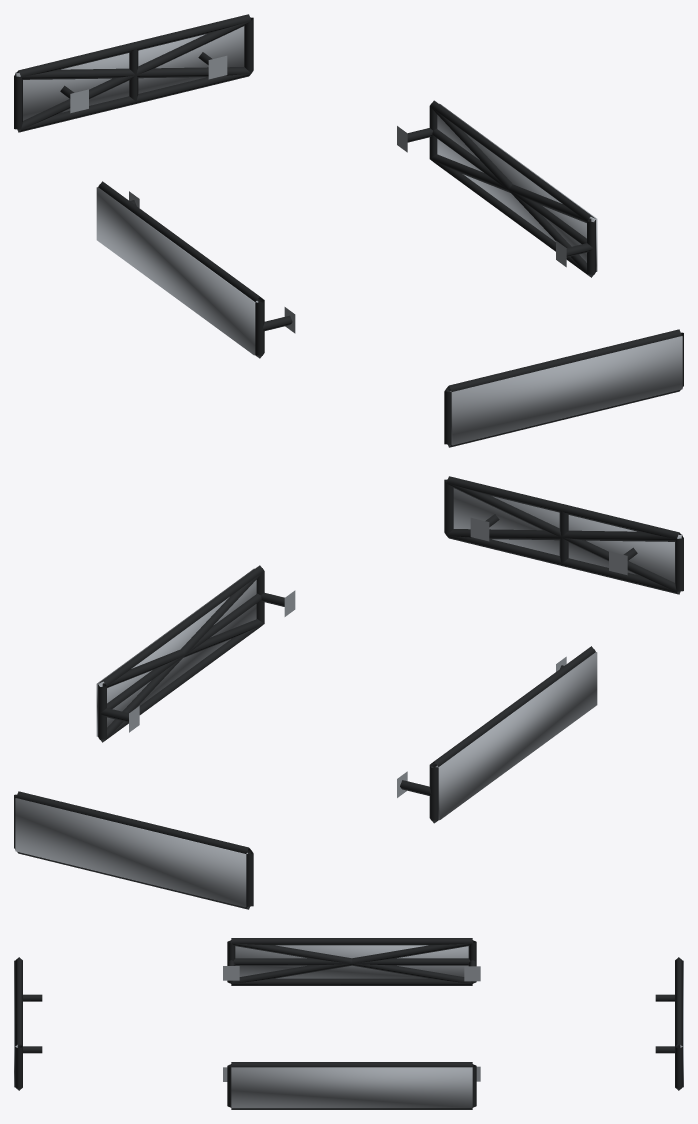
File: vallon_avenida_protecao.glb
The picture shows the model from 3 angles, top to bottom: view 1: azimuth 30°, elevation 25°; view 2: azimuth 150°, elevation 25°; view 3: azimuth 270°, elevation 25°; orthographic projection. The views are drawn at different scales.
Parts seen in each view (by area): view 1: Protection_front_Level3_Details, Protection_left_Level3_Details, Protection_rear_Level1_Details, Protection_rear_Level3_Details, Protection_right_Level1_Details, Protection_rear_Level2_Details, Protection_right_Level2_Details, Protection_right_Level3_Details, Protection_front_Level1_Details, Protection_left_Level1_Details; view 2: Protection_rear_Level3_Details, Protection_left_Level3_Details, Protection_front_Level1_Details, Protection_front_Level3_Details, Protection_right_Level1_Details, Protection_front_Level2_Details, Protection_right_Level2_Details, Protection_right_Level3_Details, Protection_rear_Level1_Details, Protection_left_Level1_Details; view 3: Protection_right_Level3_Details, Protection_left_Level2_Details, Protection_left_Level1_Details, Protection_left_Level3_Details, Protection_right_Level1_Details, Protection_rear_Level1_Details, Protection_front_Level1_Details.
Part boxes in pixels (x1=…): Protection_front_Level3_Details: x1=450, y1=336, x2=682, y2=445; Protection_left_Level3_Details: x1=96, y1=187, x2=258, y2=355; Protection_rear_Level1_Details: x1=14, y1=14, x2=253, y2=132; Protection_rear_Level3_Details: x1=15, y1=26, x2=244, y2=120; Protection_right_Level1_Details: x1=397, y1=100, x2=595, y2=277; Protection_rear_Level2_Details: x1=16, y1=21, x2=250, y2=131; Protection_right_Level2_Details: x1=430, y1=107, x2=595, y2=276; Protection_right_Level3_Details: x1=437, y1=103, x2=597, y2=271; Protection_front_Level1_Details: x1=444, y1=329, x2=683, y2=447; Protection_left_Level1_Details: x1=98, y1=181, x2=295, y2=358; Protection_rear_Level3_Details: x1=15, y1=798, x2=247, y2=907; Protection_left_Level3_Details: x1=435, y1=652, x2=597, y2=820; Protection_front_Level1_Details: x1=444, y1=476, x2=683, y2=594; Protection_front_Level3_Details: x1=453, y1=488, x2=682, y2=582; Protection_right_Level1_Details: x1=98, y1=565, x2=295, y2=742; Protection_front_Level2_Details: x1=447, y1=483, x2=681, y2=593; Protection_right_Level2_Details: x1=99, y1=572, x2=263, y2=741; Protection_right_Level3_Details: x1=96, y1=568, x2=256, y2=736; Protection_rear_Level1_Details: x1=14, y1=791, x2=253, y2=909; Protection_left_Level1_Details: x1=397, y1=646, x2=595, y2=823; Protection_right_Level3_Details: x1=231, y1=1067, x2=472, y2=1108; Protection_left_Level2_Details: x1=231, y1=941, x2=472, y2=983; Protection_left_Level1_Details: x1=223, y1=938, x2=480, y2=985; Protection_left_Level3_Details: x1=235, y1=945, x2=468, y2=978; Protection_right_Level1_Details: x1=223, y1=1062, x2=480, y2=1109; Protection_rear_Level1_Details: x1=655, y1=957, x2=682, y2=1090; Protection_front_Level1_Details: x1=15, y1=957, x2=42, y2=1090.
Size of the model in its own units: 2.04 by 0.354 by 4.5.
1 material, 1 textured.
